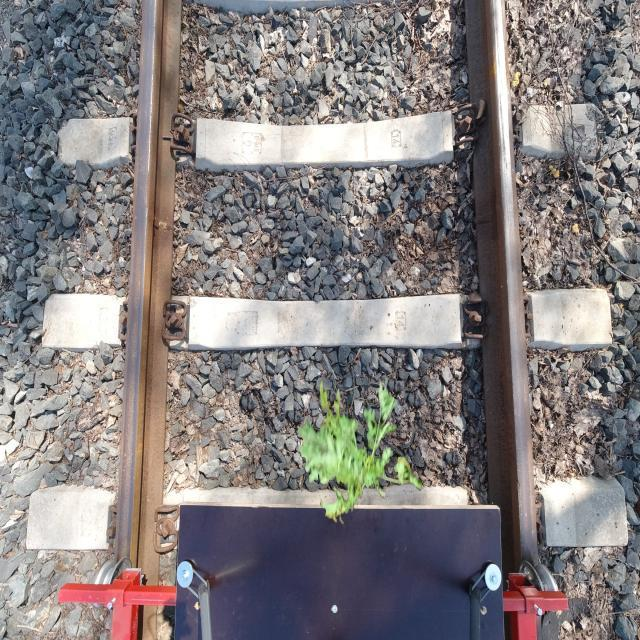Plant: (297, 378, 422, 525)
